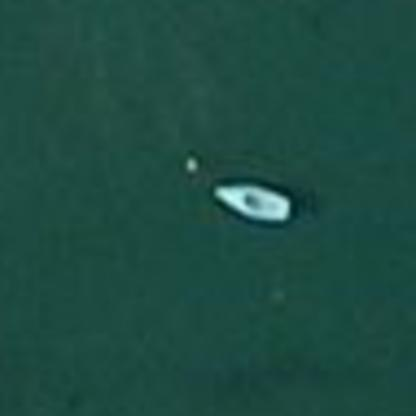ship: (205, 177, 295, 227)
